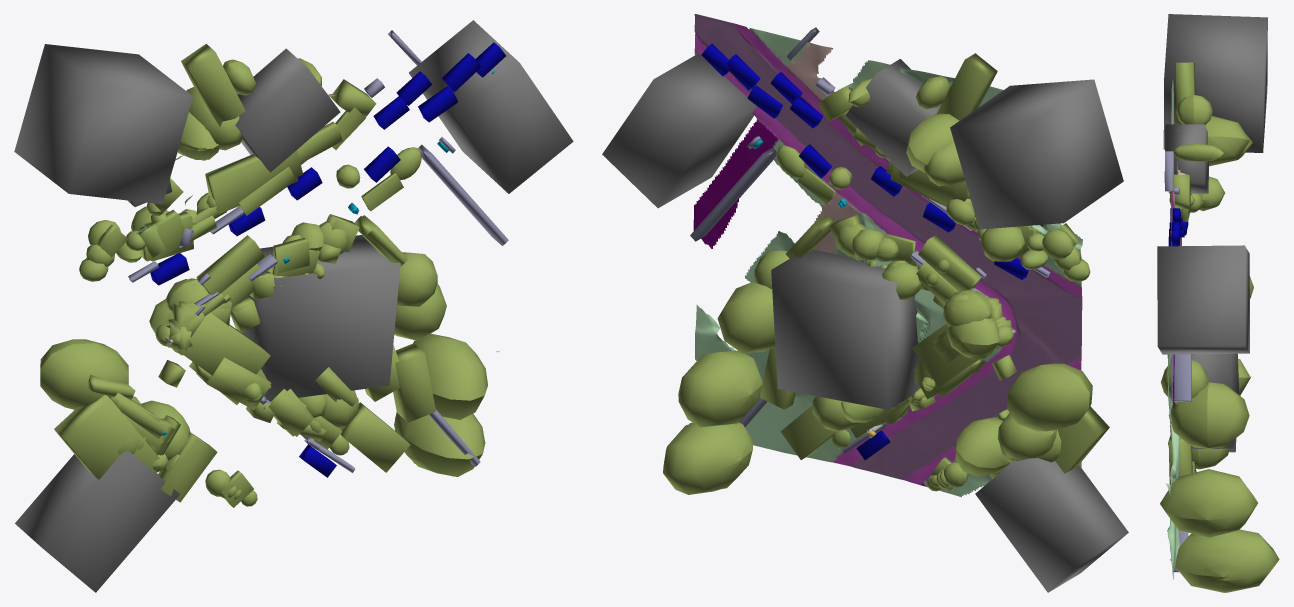
Rendered from medium_292.glb.
3 renders of one model, left to right at view 1: azimuth 30°, elevation 25°; view 2: azimuth 150°, elevation 25°; view 3: azimuth 270°, elevation 25°, orthographic. The views are drawn at different scales.
Size of the model in its own units: 80.09 by 76.05 by 19.29.
